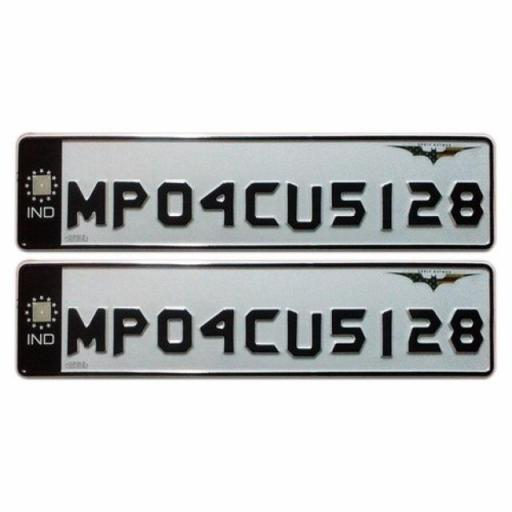number plate: (24, 256, 498, 388), (14, 134, 495, 247)
